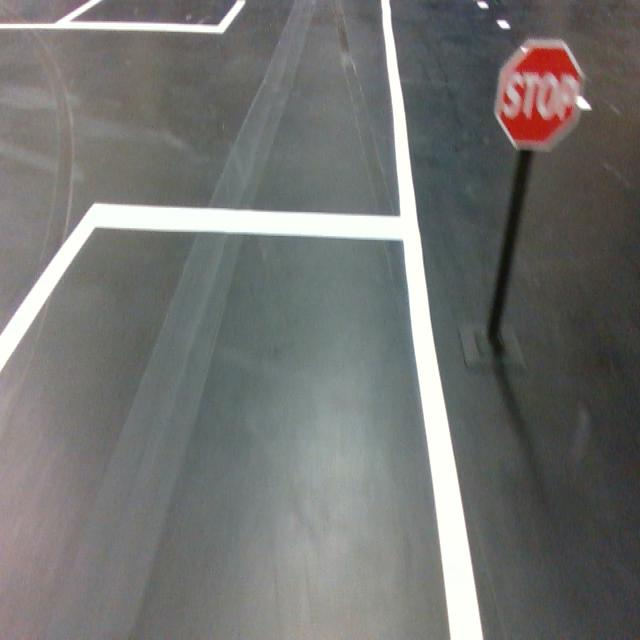stop-sign: (493, 38, 586, 152)
